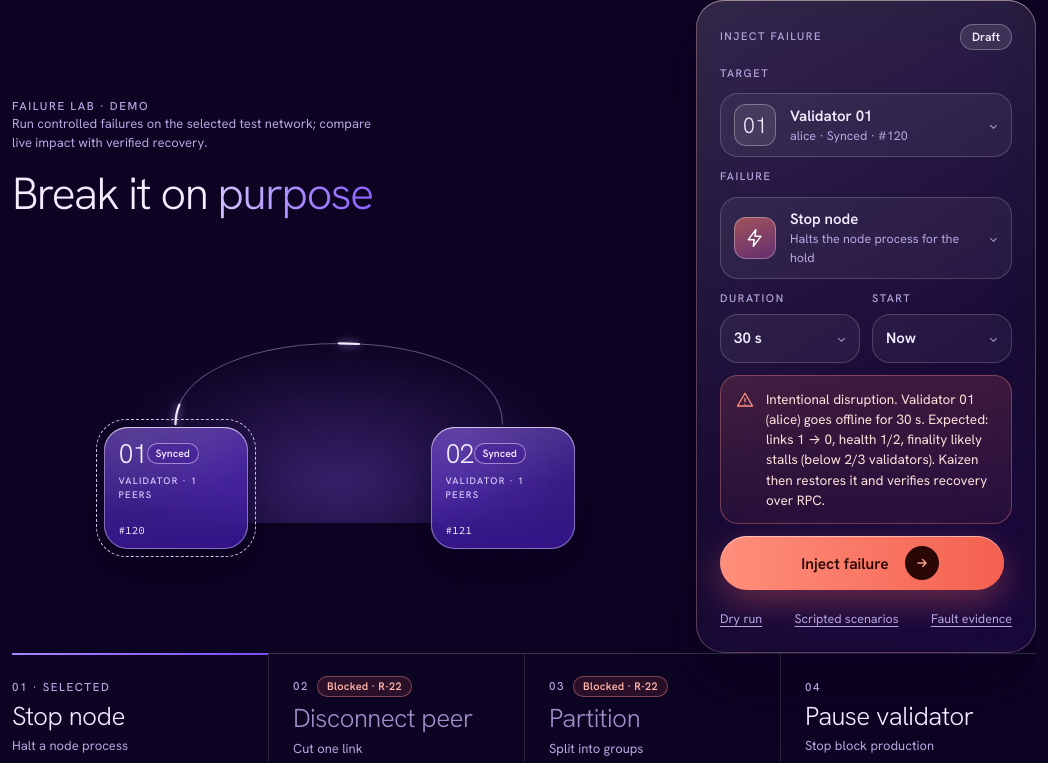
Test: Failure Lab › renders a refused dry-run preflight from the 403 body
The width and height of the screenshot is (1048, 763).
What coordinates should you click on to do the following:
click the button "Dry run"
I would click on:
 (741, 620)
Its box is [720,610,762,629].
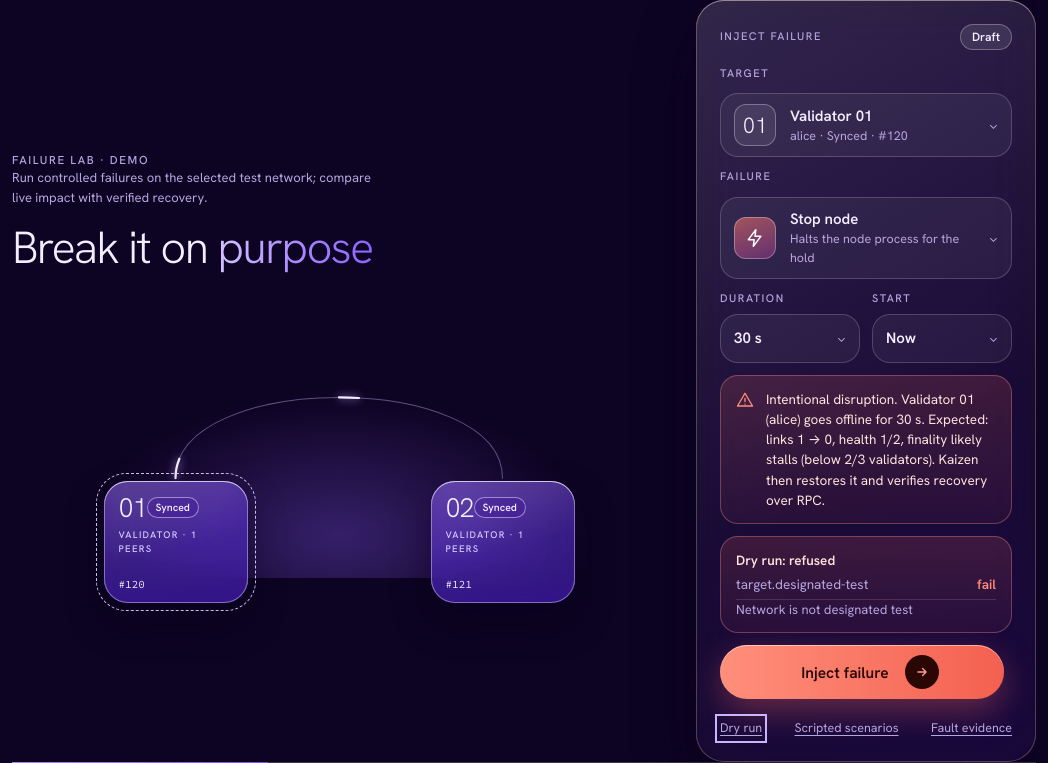
Expected: the element named "Dry-run preflight" shows "refused", [789,551,835,569]
Expected: the element named "Dry-run preflight" shows "target.designated-test", [736,575,868,593]
Expected: the element named "Dry-run preflight" shows "Network is not designated test", [736,601,913,618]
